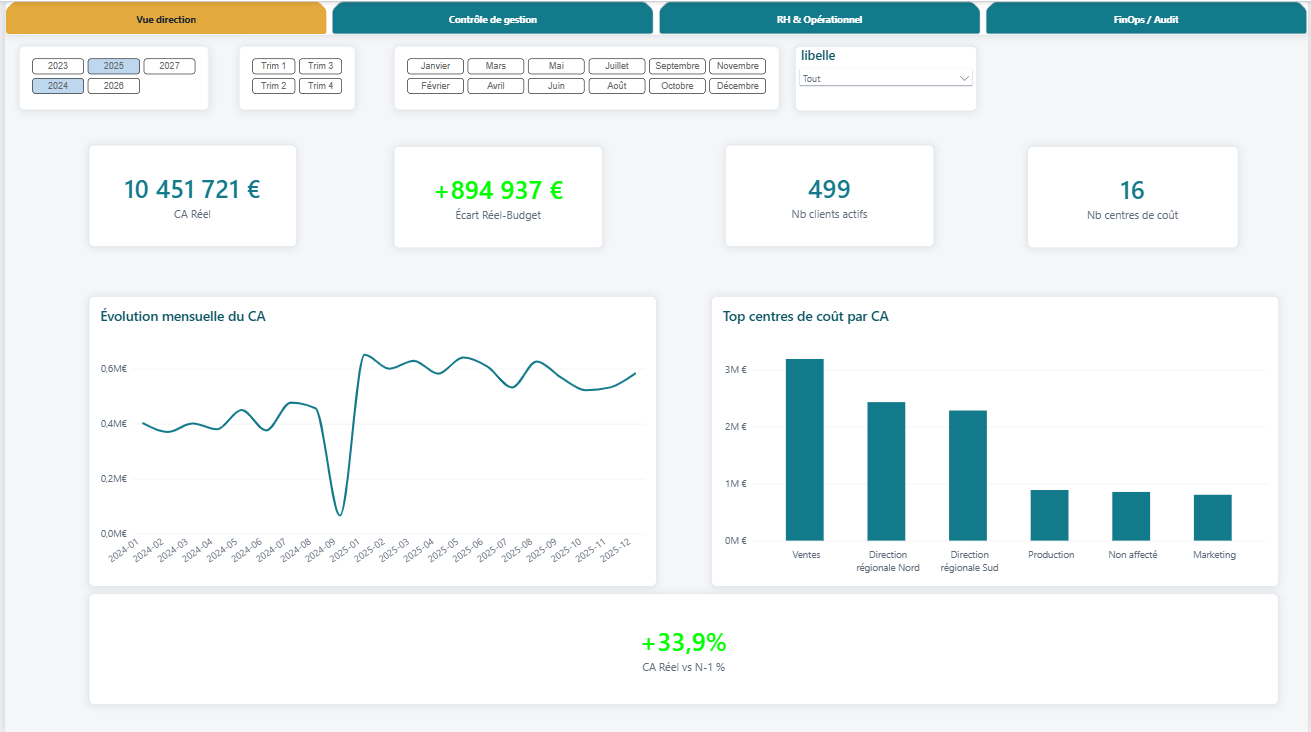

The page's visual inventory and layout, read from the dashboard file:
{"tool":"powerbi","page":{"name":"Vue direction","canvas":[1920,1080],"ordinal":0},"visuals":[{"type":"ChicletSlicer1448559807354","fields":{"Category":["Dim Date.Calendrier.Année"]},"box":[20,66,280,94],"z":0},{"type":"pageNavigator","box":[0,0,1920,50],"z":1},{"type":"ChicletSlicer1448559807354","fields":{"Category":["Dim Date.Calendrier.Trimestre"]},"box":[344,66,172,94],"z":2},{"type":"ChicletSlicer1448559807354","fields":{"Category":["Dim Date.Calendrier.Mois"]},"box":[572,66,568,94],"z":3},{"type":"card","fields":{"Values":["Fct Ventes Réel.CA Réel"]},"box":[124,212,306,150],"z":4},{"type":"card","fields":{"Values":["Fct Écarts Réel-Budget.Écart Réel-Budget"]},"box":[572,214,308,150],"z":5},{"type":"card","fields":{"Values":["Fct Ventes Réel.Nb clients actifs"]},"box":[1060,212,308,150],"z":6},{"type":"card","fields":{"Values":["Dim Centre de coût.Nb centres de coût"]},"box":[1506,214,310,150],"z":7},{"type":"lineChart","title":"Évolution mensuelle du CA","fields":{"Category":["Dim Date.annee_mois"],"Y":["Fct Ventes Réel.CA Réel"]},"box":[124,434,836,428],"z":8},{"type":"clusteredColumnChart","title":"Top centres de coût par CA","fields":{"Category":["Dim Centre de coût.libelle"],"Y":["Fct Ventes Réel.CA Réel"]},"box":[1040,434,836,428],"z":9},{"type":"card","fields":{"Values":["Fct Ventes Réel.CA Réel vs N-1 %"]},"box":[124,872,1752,164],"z":10},{"type":"slicer","fields":{"Values":["Dim Centre de coût.libelle"]},"box":[1164,66,268,96],"z":11}]}

Visuals, with their boxes in screenshot pixels (x1, y1, x2, y2), scaled from the page's 1920x1080 canvas onto the 1311x732 screenshot:
ChicletSlicer1448559807354 - Dim Date.Calendrier.Année: 14/45/205/108
pageNavigator: 0/0/1310/34
ChicletSlicer1448559807354 - Dim Date.Calendrier.Trimestre: 235/45/352/108
ChicletSlicer1448559807354 - Dim Date.Calendrier.Mois: 391/45/778/108
card - Fct Ventes Réel.CA Réel: 85/144/294/245
card - Fct Écarts Réel-Budget.Écart Réel-Budget: 391/145/601/247
card - Fct Ventes Réel.Nb clients actifs: 724/144/934/245
card - Dim Centre de coût.Nb centres de coût: 1028/145/1240/247
"Évolution mensuelle du CA" lineChart: 85/294/656/584
"Top centres de coût par CA" clusteredColumnChart: 710/294/1281/584
card - Fct Ventes Réel.CA Réel vs N-1 %: 85/591/1281/702
slicer - Dim Centre de coût.libelle: 795/45/978/110
